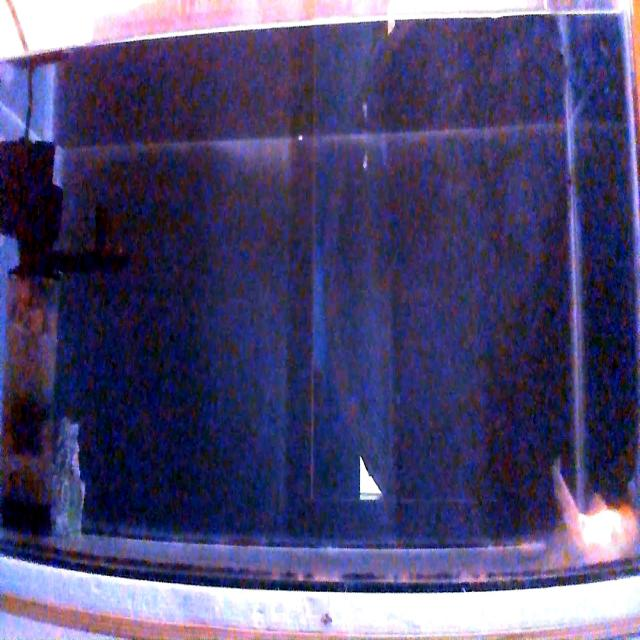fish: (551, 457, 638, 556)
